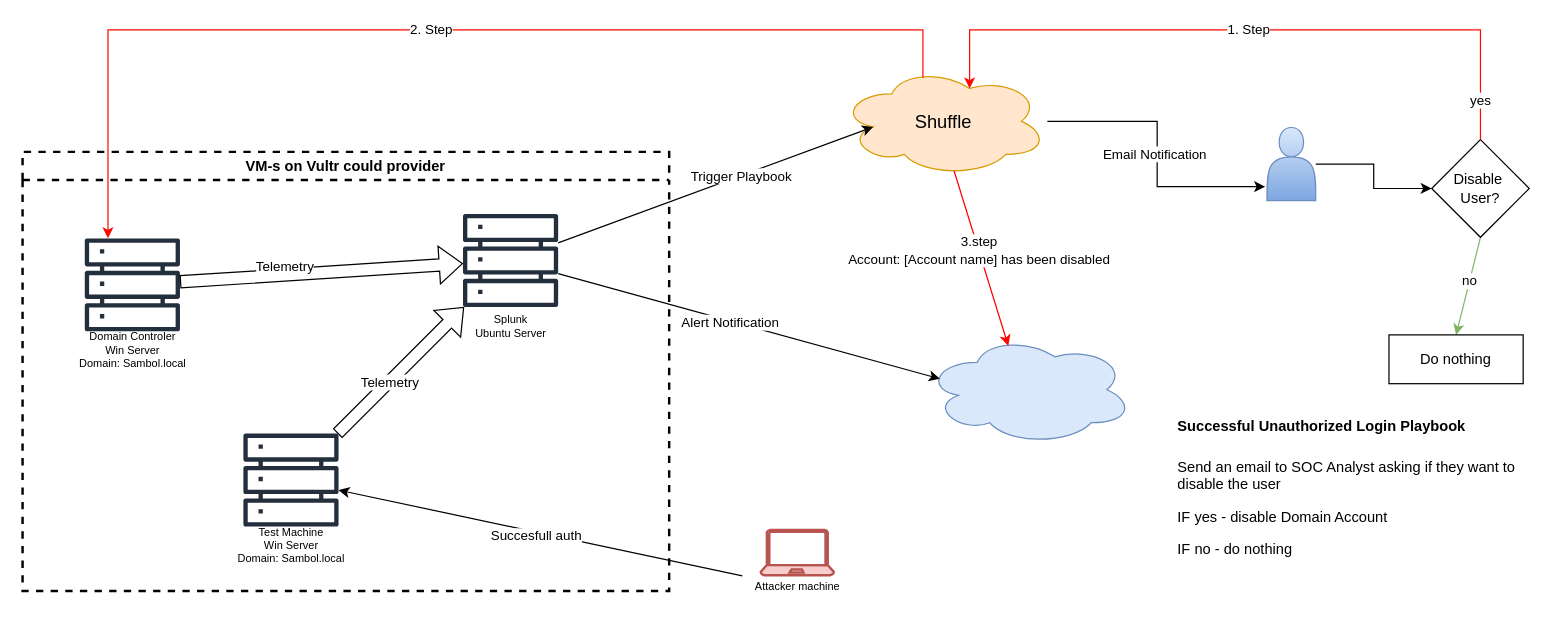
Image size: 1551x641. Some labels were removed from this diagram. Each missing label, with the centre of its shape:
Slack: the point at 1028,389
SOC Analyst: the point at 1291,163
